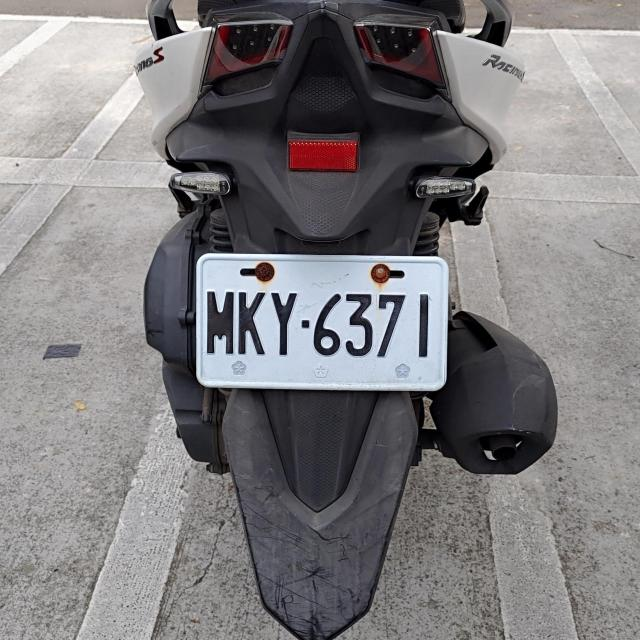W: (193, 254, 448, 392)
